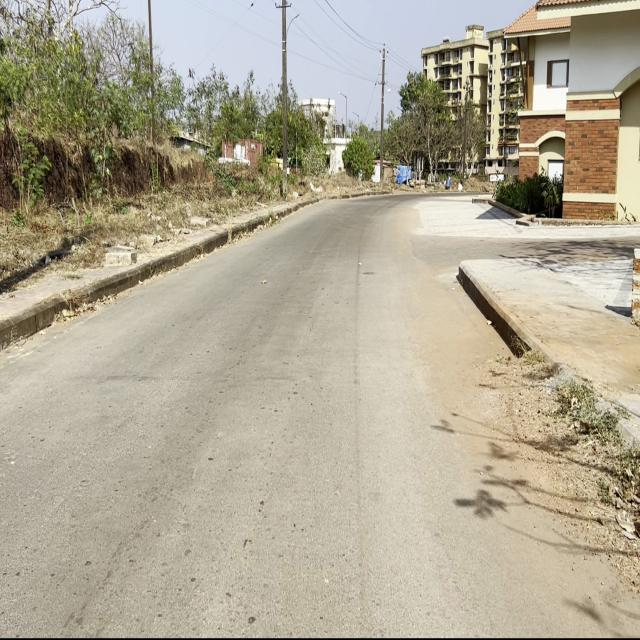Road: (0, 192, 638, 639)
